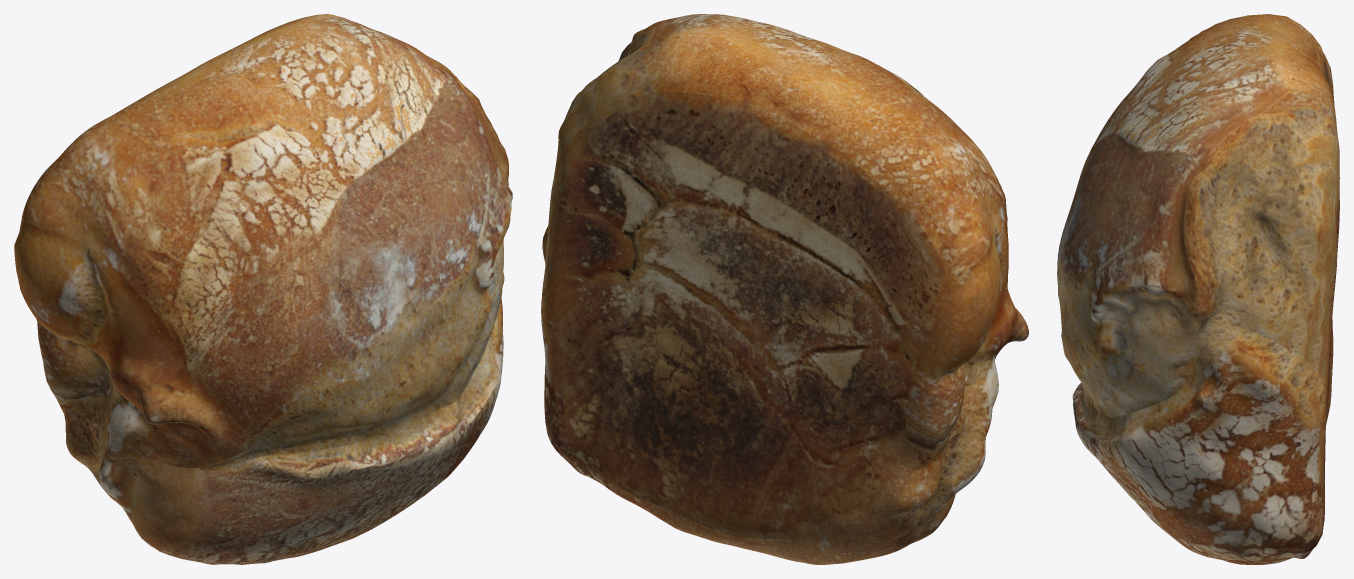
The model's file is Bread D.obj.
3 renders of one model, left to right at view 1: azimuth 30°, elevation 25°; view 2: azimuth 150°, elevation 25°; view 3: azimuth 270°, elevation 25°, orthographic. The views are drawn at different scales.
Visible parts, largest first — view 1: Bergsteige; view 2: Bergsteige; view 3: Bergsteige.
Part boxes in pixels (x1=…): Bergsteige: x1=14, y1=14, x2=512, y2=564; Bergsteige: x1=541, y1=14, x2=1028, y2=564; Bergsteige: x1=1057, y1=14, x2=1339, y2=564.
Size of the model in its own units: 9.57 by 10.23 by 5.27.
1 material, 1 textured.
